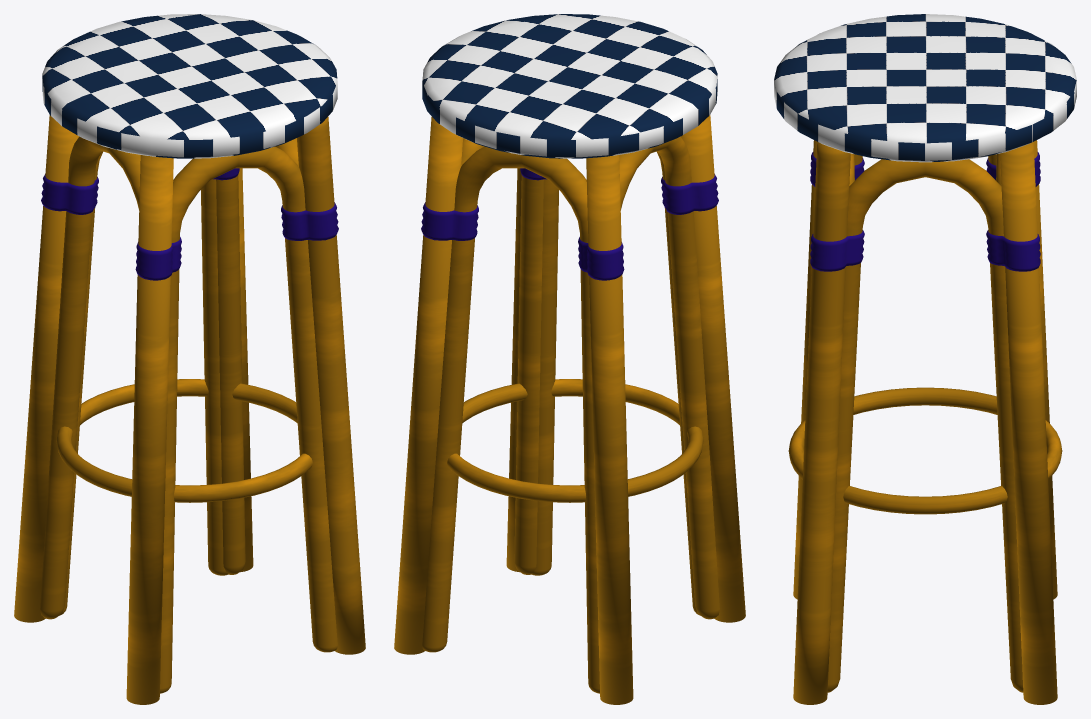
File: stool.fbx
3 renders of one model, left to right at view 1: azimuth 30°, elevation 25°; view 2: azimuth 150°, elevation 25°; view 3: azimuth 270°, elevation 25°, orthographic. The views are drawn at different scales.
Parts seen in each view (by area): view 1: Cylinder; view 2: Cylinder; view 3: Cylinder.
Part boxes in pixels (x1,y1,x2,y2): Cylinder: (14,14,365,704); Cylinder: (394,14,745,704); Cylinder: (774,14,1076,704).
Size of the model in its own units: 35 by 73.69 by 35.
